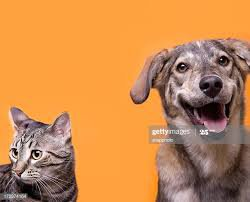cat: (5, 102, 81, 202)
dog: (129, 29, 250, 198)
